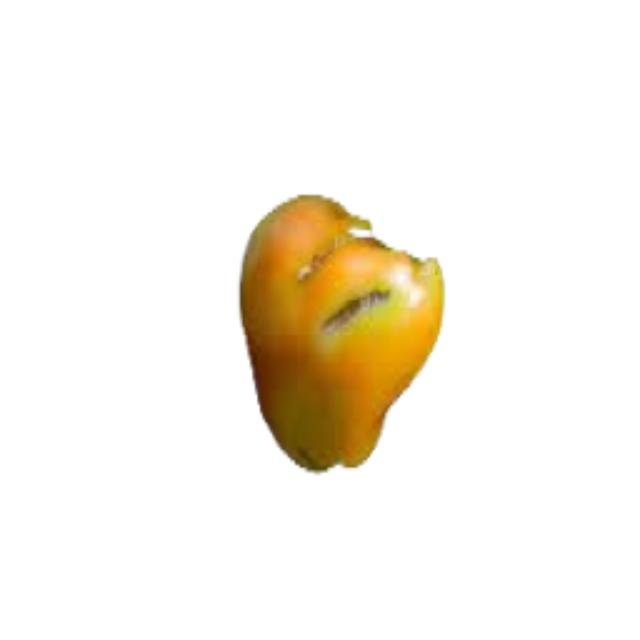defect: (241, 188, 445, 480)
